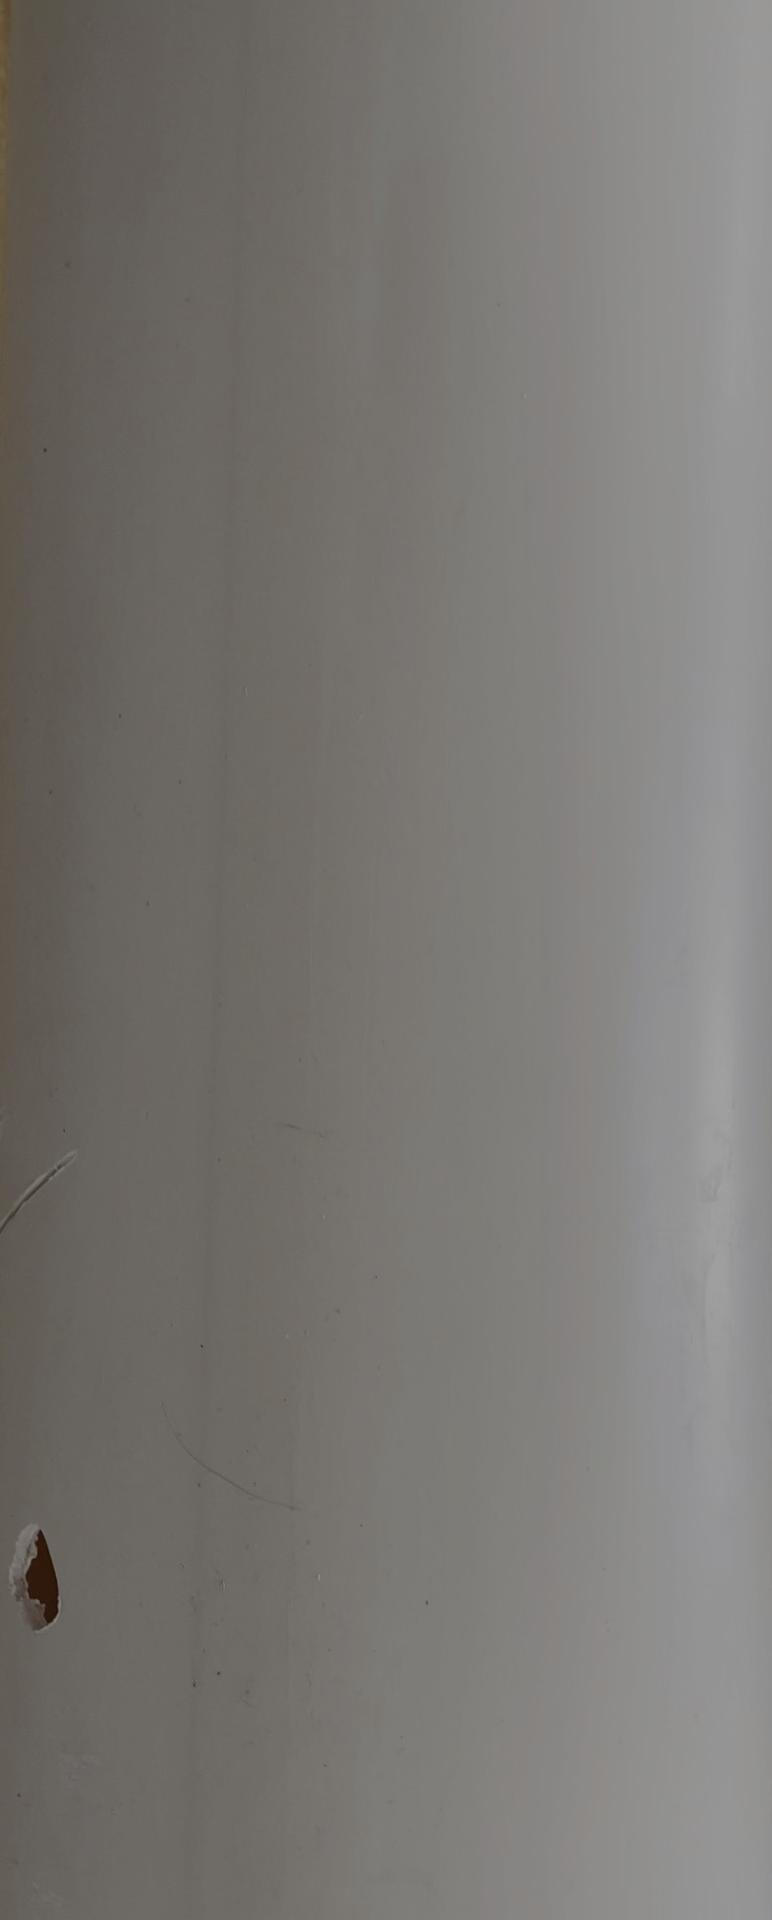kongdong: (9, 1513, 81, 1654)
